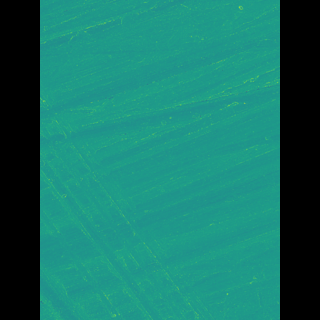Loch: (68, 75, 201, 319), (68, 75, 250, 154)
